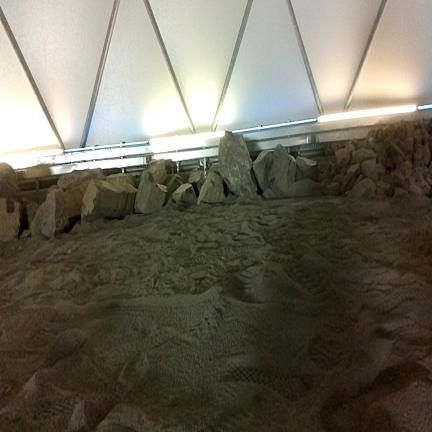Rock: (219, 132, 257, 196), (57, 168, 105, 218), (82, 180, 137, 223), (253, 145, 296, 197), (31, 186, 68, 238), (135, 171, 167, 213), (0, 198, 20, 241), (0, 163, 21, 202), (198, 173, 224, 204), (340, 164, 361, 194), (288, 179, 322, 197), (165, 174, 183, 204), (296, 157, 318, 181), (385, 140, 405, 166), (147, 159, 167, 184), (350, 178, 375, 198), (362, 160, 384, 182), (173, 184, 197, 204), (107, 174, 136, 188), (189, 170, 204, 197), (351, 148, 376, 164), (414, 145, 430, 167), (26, 203, 39, 224), (335, 149, 350, 167), (391, 169, 404, 188), (416, 177, 430, 194), (400, 161, 412, 179), (324, 182, 340, 195), (413, 130, 422, 150), (394, 188, 408, 198), (410, 184, 422, 194), (334, 172, 344, 183), (423, 129, 429, 143), (369, 132, 371, 132)
